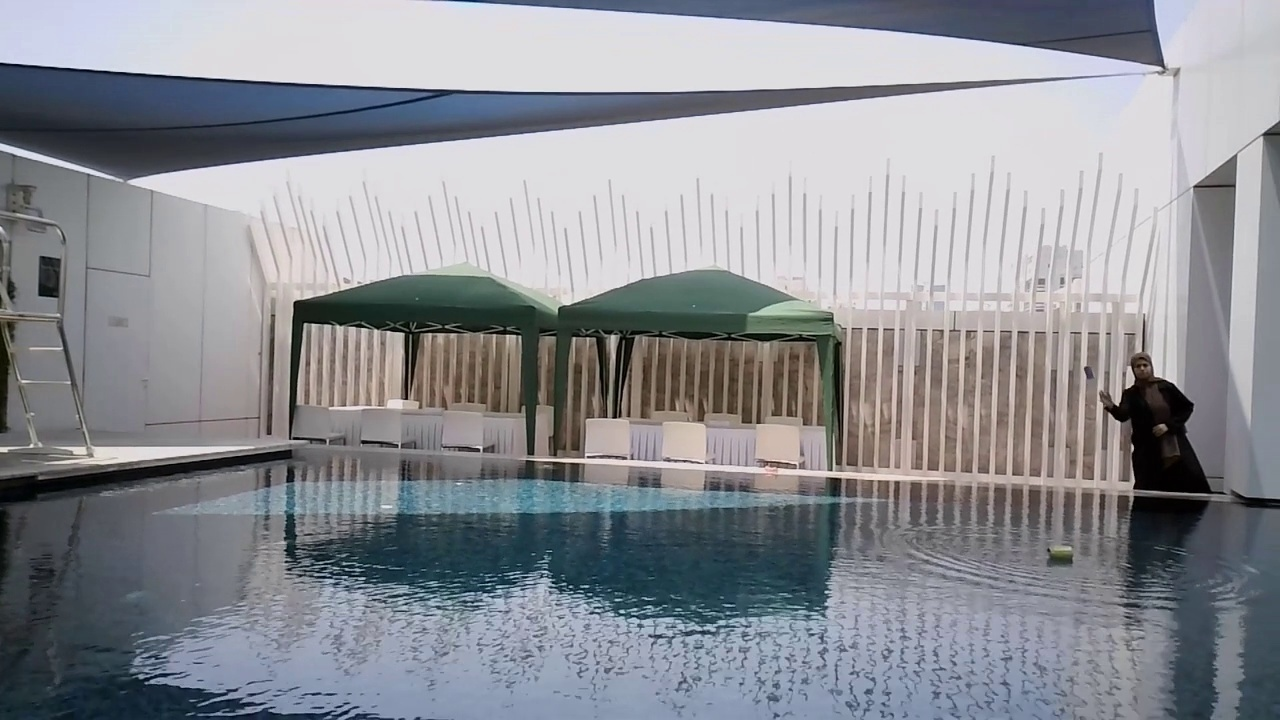debris: (1044, 538, 1075, 565), (1082, 364, 1096, 382), (763, 464, 778, 475)
